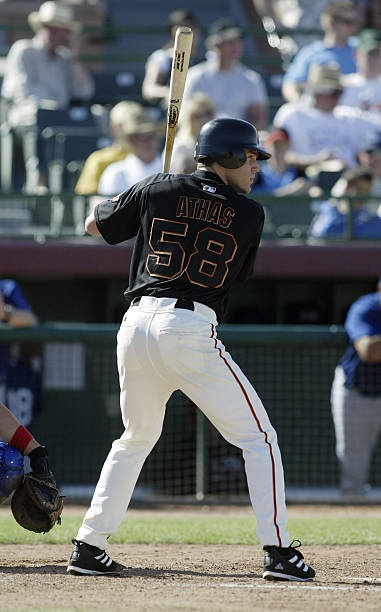bita: (153, 19, 196, 181)
